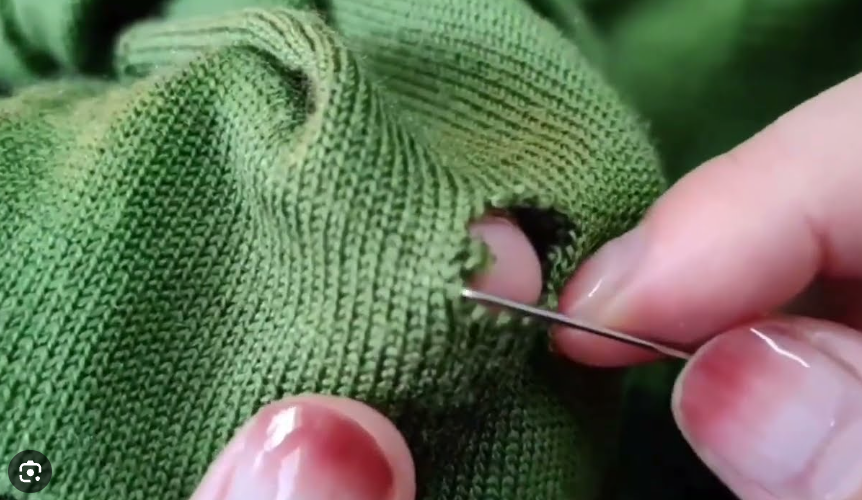hole_2: (454, 198, 584, 323)
